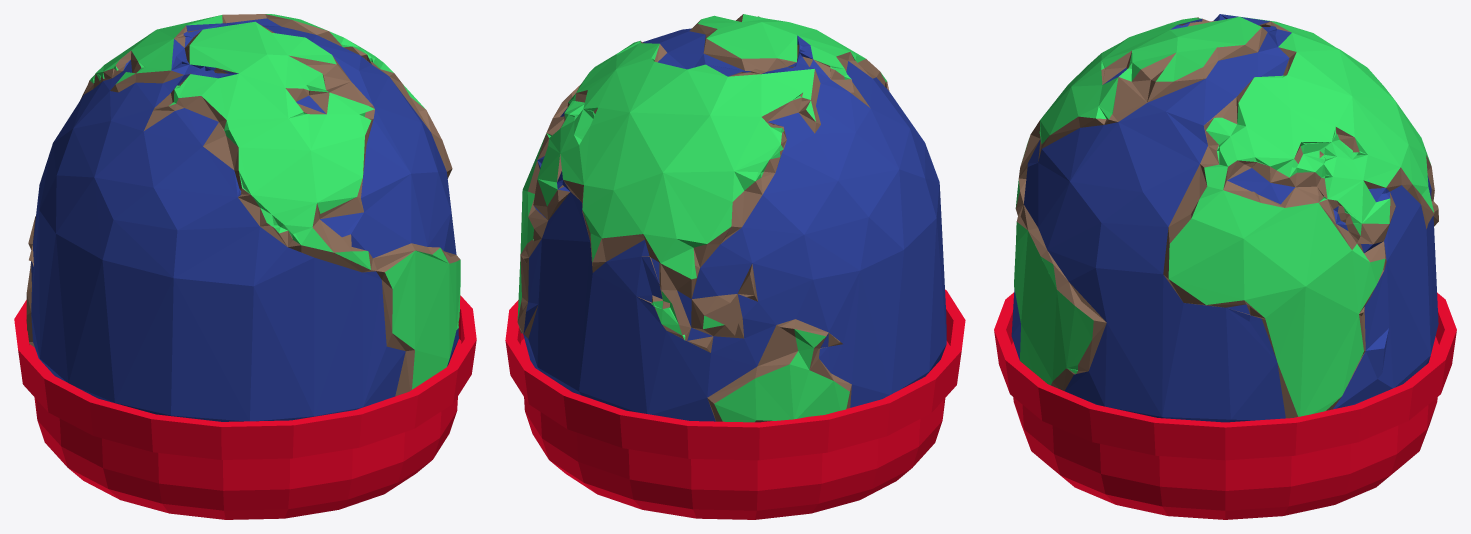
Rendered from GlobeCapsule.glb.
3 renders of one model, left to right at view 1: azimuth 30°, elevation 25°; view 2: azimuth 150°, elevation 25°; view 3: azimuth 270°, elevation 25°, orthographic.
Visible parts, largest first — view 1: Cylinder; view 2: Cylinder; view 3: Cylinder.
Boxes of the visible parts, <box> form: Cylinder: <box>14,14,476,519</box>; Cylinder: <box>505,14,965,519</box>; Cylinder: <box>994,14,1456,519</box>.
Size of the model in its own units: 2.21 by 2.17 by 2.21.
